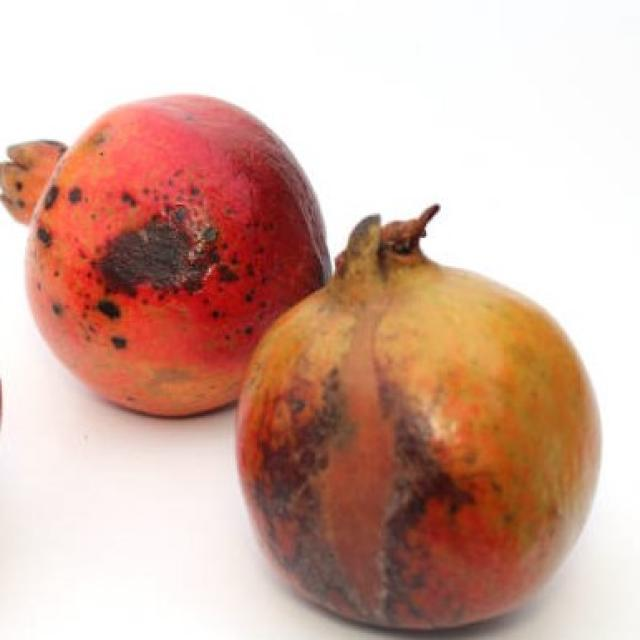overripe: (232, 196, 605, 629), (0, 83, 333, 416)
